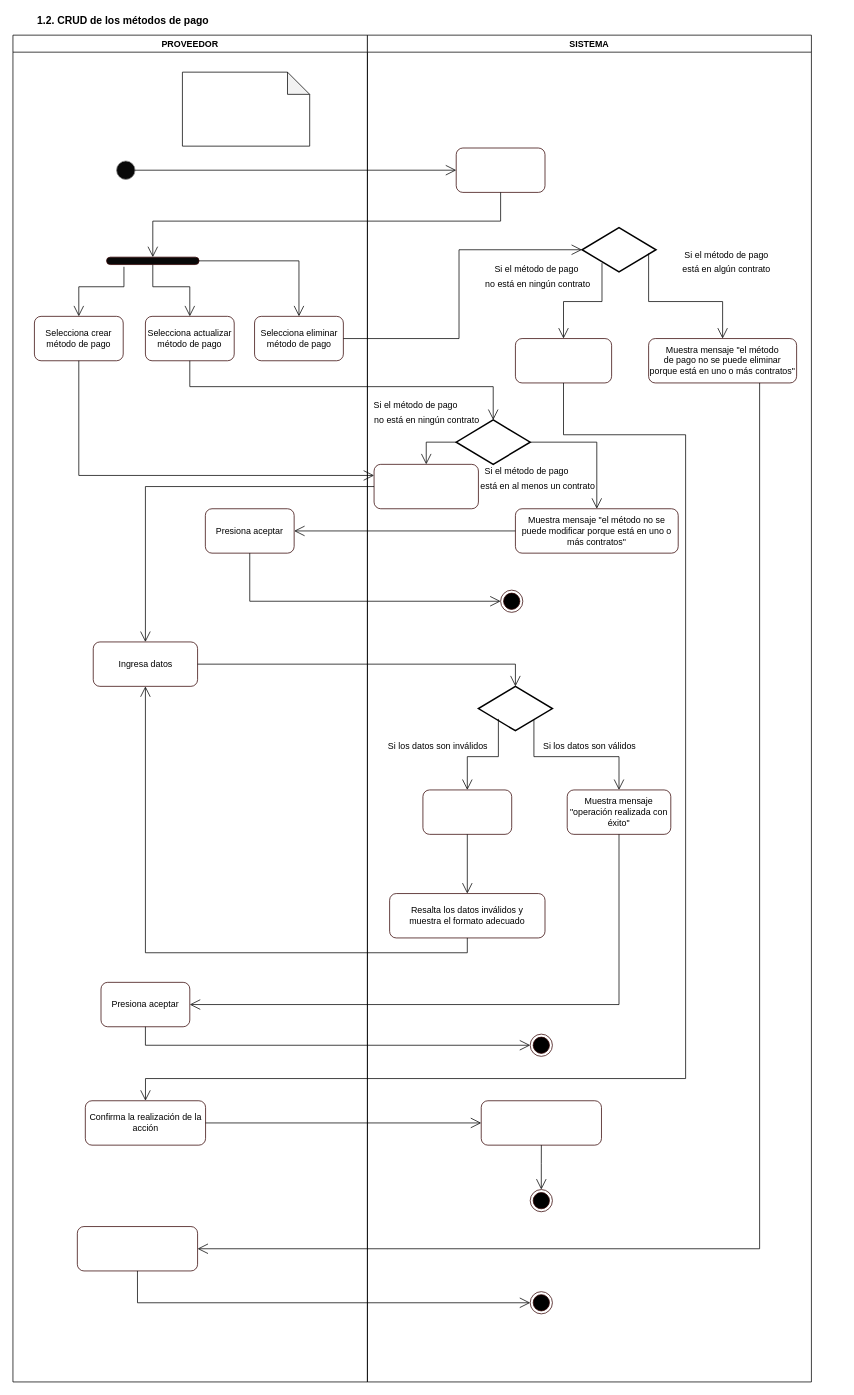
Some shapes in this 854 by 1395 pixel diagram are drawn without their labels. The shapes that lost their labels are listed below. From the top down, each one's box as (x1, y1, x2, y2) in pixels, then its label:
(182, 71, 310, 146): Este flujo se inicia cuando el proveedor selecciona métodos de pago
(455, 147, 545, 192): Muestra interfaz "métodos de pago"
(515, 338, 612, 383): Muestra mensaje pidiendo la confirmación
(373, 464, 478, 509): Muestra interfaz "formulario datos de método de pago"
(422, 789, 512, 834): Muestra mensaje "datos inválidos"
(480, 1100, 601, 1145): Elimina el método de pago respectivo
(77, 1226, 198, 1271): Confirma la lectura del mensaje
